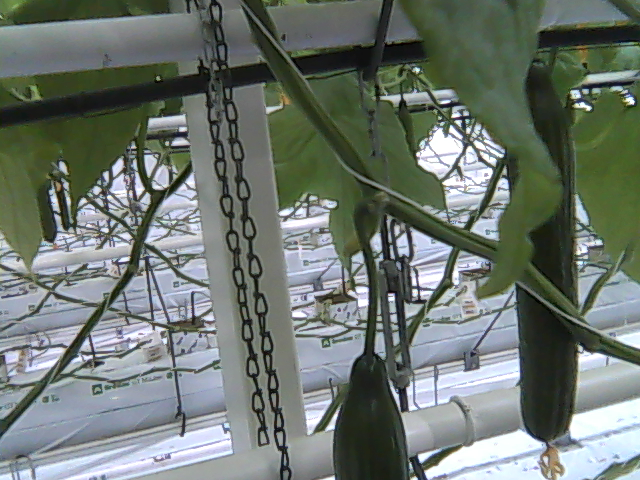concombre: (506, 53, 581, 480), (330, 347, 411, 480)
